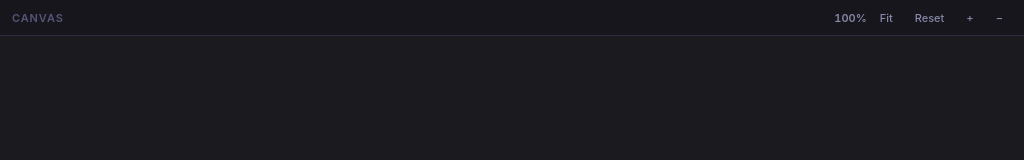
Test case: Canvas › zoom level display updates after zoom in
Expected: the text named "Zoom level" reads "100%", x1=834 y1=10 x2=867 y2=24
# Click zoom in
What coordinates should you click on to do the following:
click the button named "zoom in"
I would click on:
 (970, 18)
Its box is x1=957 y1=8 x2=983 y2=28.
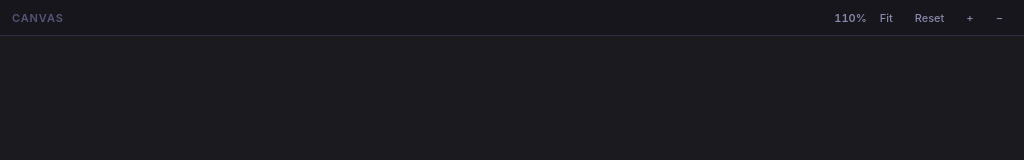
Now the text named "Zoom level" reads "110%", box x1=834 y1=10 x2=867 y2=24
